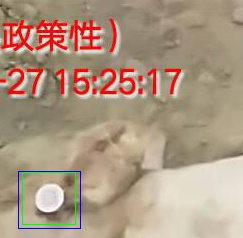text: (22, 172, 75, 224)
